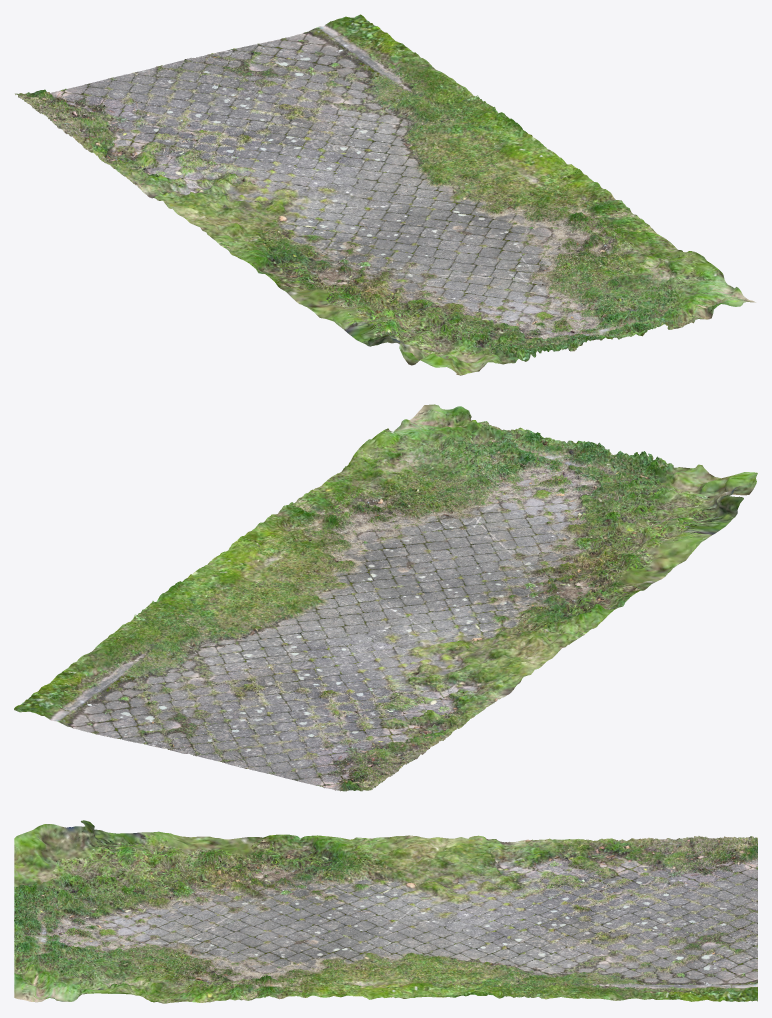
The model's file is end_of_the_path.glb.
The picture shows the model from 3 angles, top to bottom: view 1: azimuth 30°, elevation 25°; view 2: azimuth 150°, elevation 25°; view 3: azimuth 270°, elevation 25°; orthographic projection. The views are drawn at different scales.
Visible parts, largest first — view 1: Object_6, Object_2, Object_4, Object_3, Object_5, Object_7; view 2: Object_6, Object_2, Object_4, Object_3, Object_5, Object_7; view 3: Object_2, Object_6, Object_4, Object_5, Object_3, Object_7.
Part boxes in pixels (bbox=[...]): Object_6: bbox=[69, 38, 733, 350]; Object_2: bbox=[52, 30, 683, 358]; Object_4: bbox=[47, 33, 751, 375]; Object_3: bbox=[24, 39, 755, 342]; Object_5: bbox=[24, 14, 682, 351]; Object_7: bbox=[15, 63, 596, 361]; Object_6: bbox=[94, 406, 659, 754]; Object_2: bbox=[44, 424, 713, 781]; Object_4: bbox=[47, 409, 757, 788]; Object_3: bbox=[48, 404, 729, 791]; Object_5: bbox=[14, 437, 664, 782]; Object_7: bbox=[88, 451, 671, 790]; Object_2: bbox=[14, 833, 757, 1001]; Object_6: bbox=[14, 837, 757, 1003]; Object_4: bbox=[14, 820, 757, 1002]; Object_5: bbox=[14, 836, 757, 1001]; Object_3: bbox=[14, 831, 757, 1001]; Object_7: bbox=[14, 836, 757, 1000].
Bounding box in the file's own units: 3.02 × 0.2683 × 6.
1 material, 1 textured.
